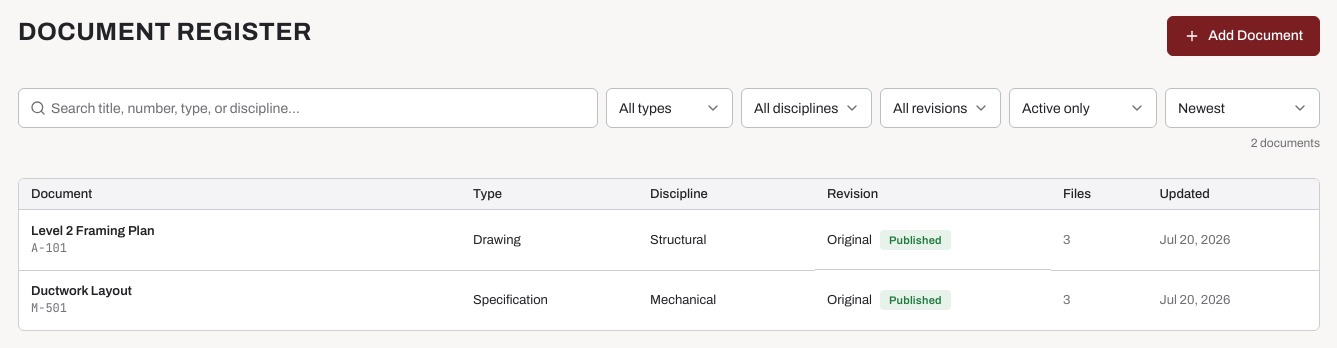
it: Document Register — search, filters, sort, and history › searches title, record number, type label, and discipline label
The width and height of the screenshot is (1337, 348).
Check: the table with class "records-register-table" is shown, box 19,179 -> 1319,330
Type "mechanical" into the search field named "Search documents" at [308, 108], box 18,88 -> 598,128
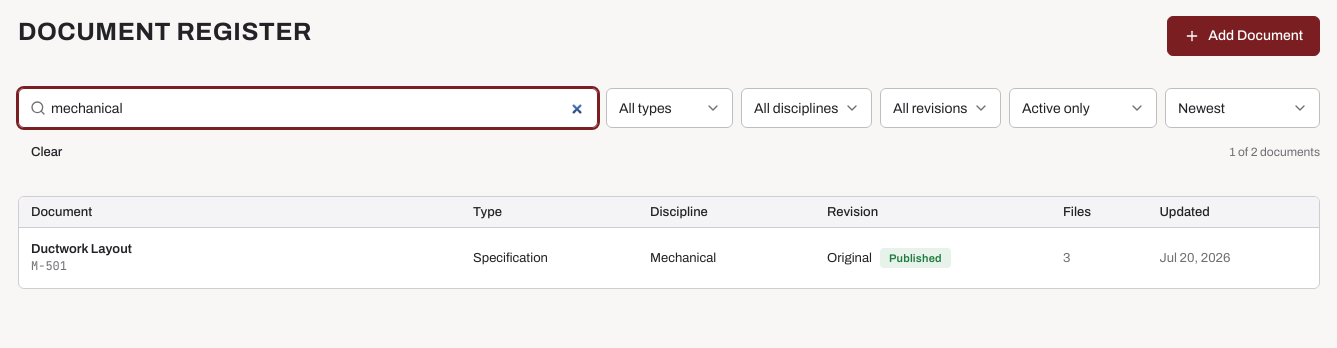
Check: the link "Ductwork Layout" is shown, box 31,242 -> 132,256
Check: the link "Level 2 Framing Plan" is gone
